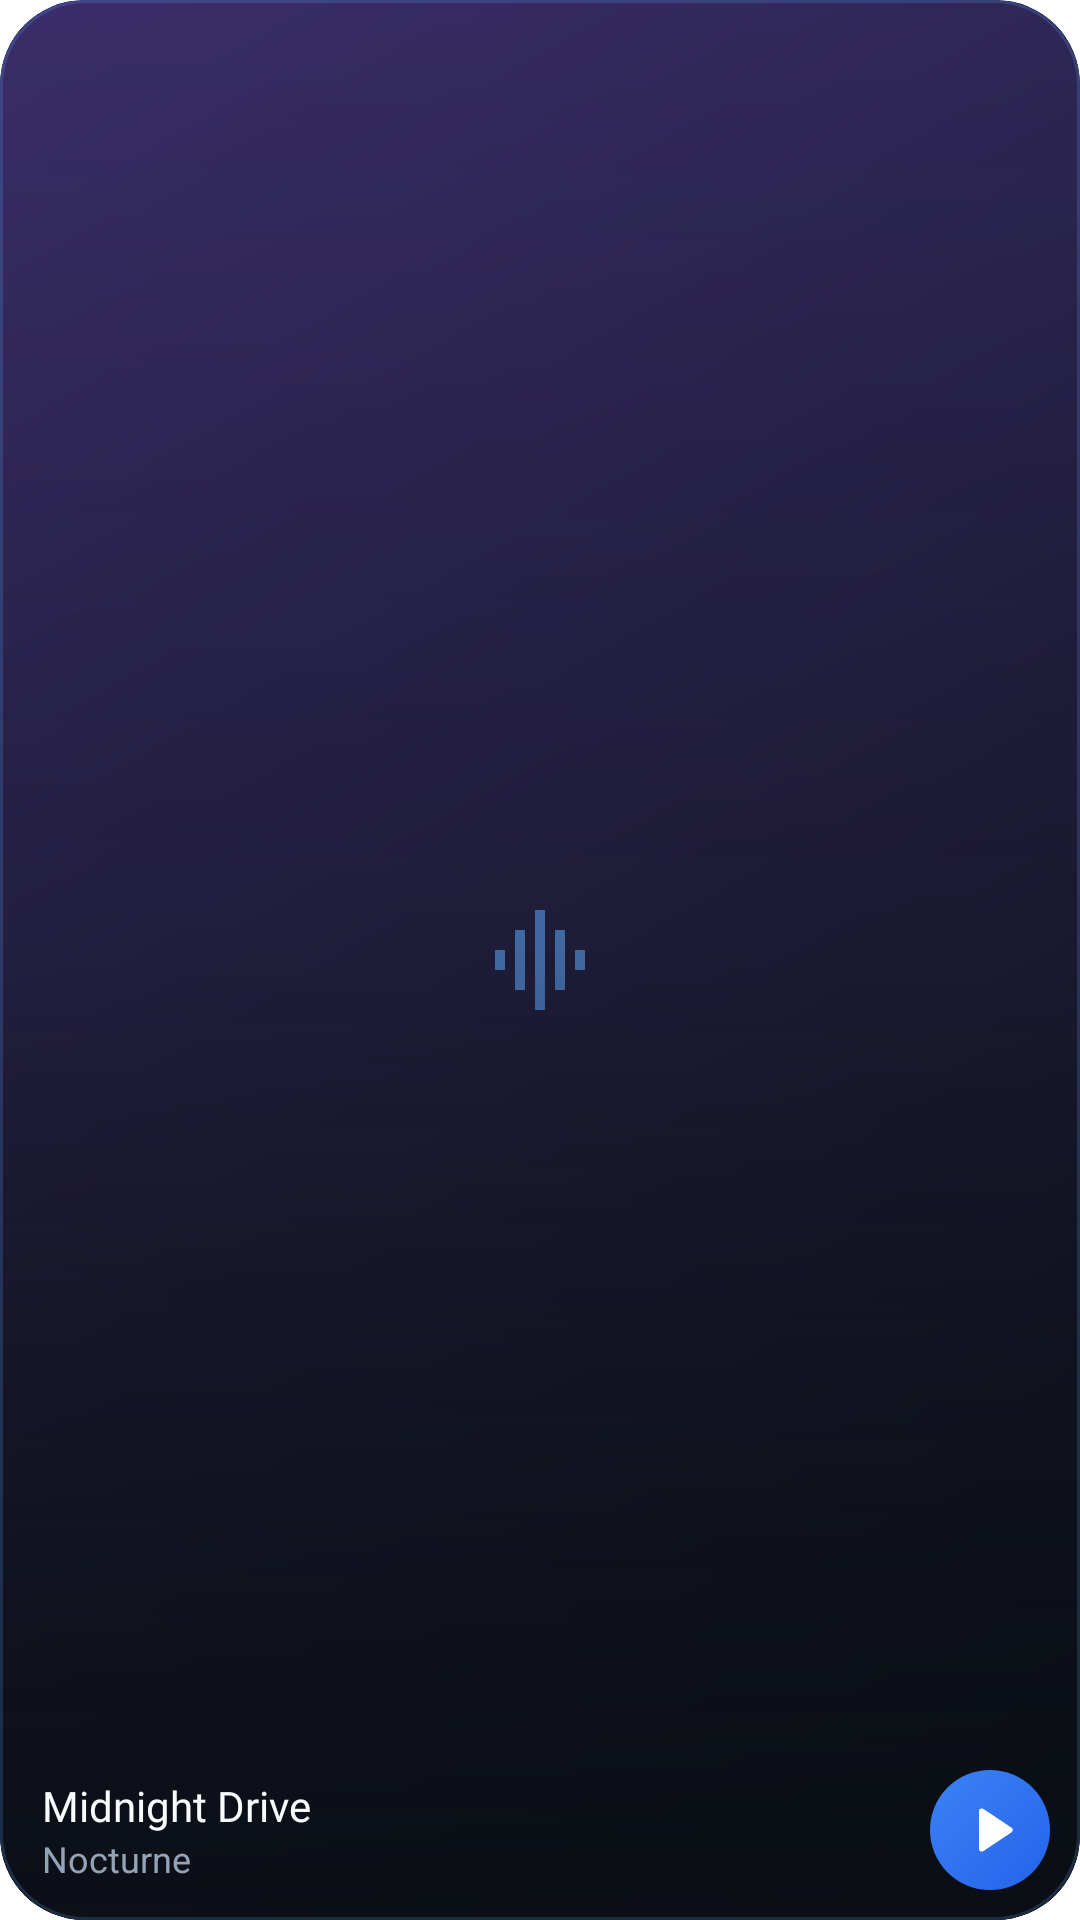

Icon bounding boxes for this 1080px x 1920px phone screenshot, format (x1, y1, x2, y2):
widget play: (930, 1770, 1050, 1890)
